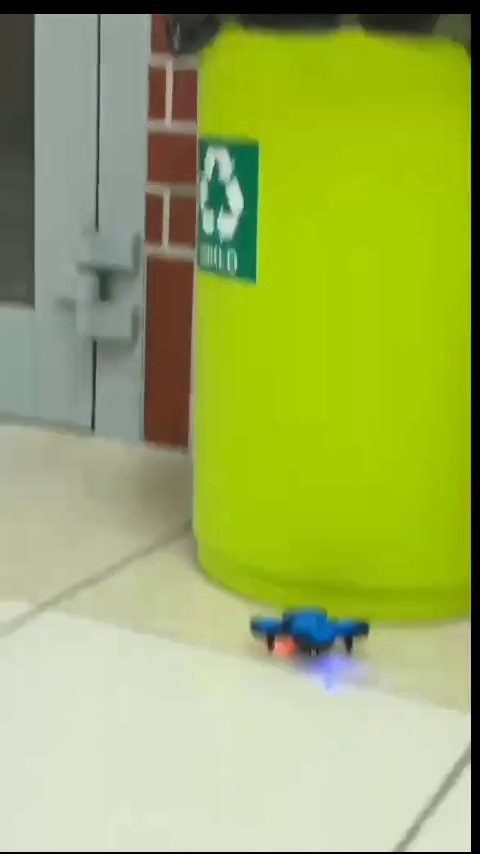drone: (253, 601, 363, 662)
